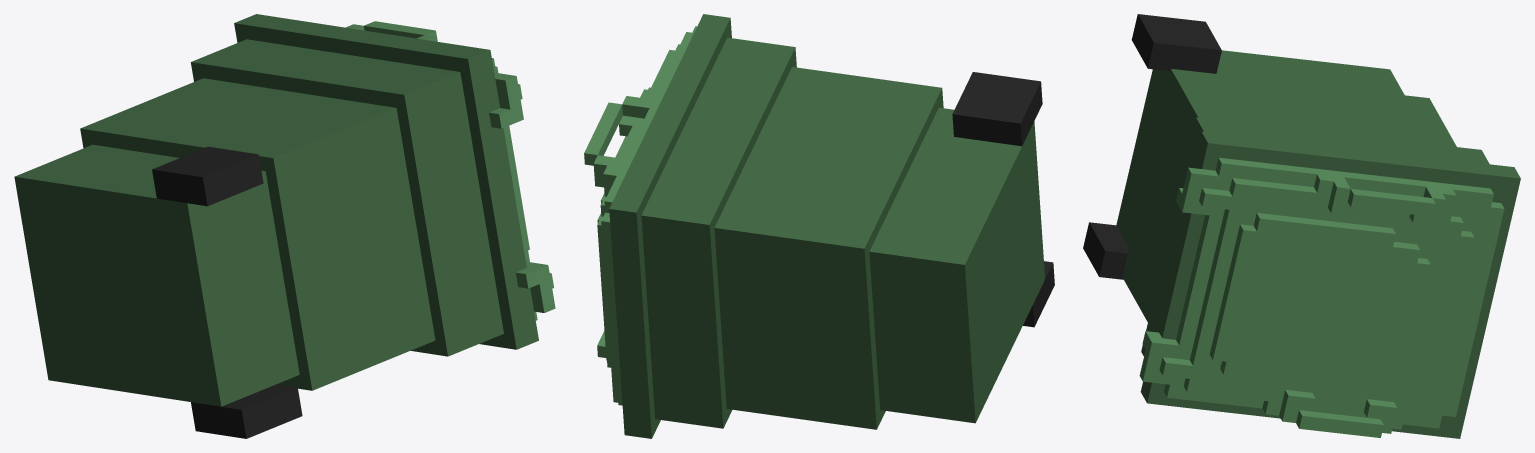
File: TrashBin.fbx
The picture shows the model from 3 angles, left to right: view 1: azimuth 30°, elevation 25°; view 2: azimuth 150°, elevation 25°; view 3: azimuth 270°, elevation 25°; orthographic projection. The views are drawn at different scales.
Parts seen in each view (by area): view 1: Untitled.016; view 2: Untitled.016; view 3: Untitled.016.
Boxes of the visible parts, bbox=[...] form: Untitled.016: bbox=[14, 14, 555, 438]; Untitled.016: bbox=[584, 14, 1054, 438]; Untitled.016: bbox=[1083, 14, 1520, 438].
Size of the model in its own units: 317 by 246 by 306.
Materials: 1 (1 with a texture image).
